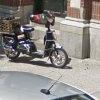Motorcycle: (1, 16, 80, 73)
